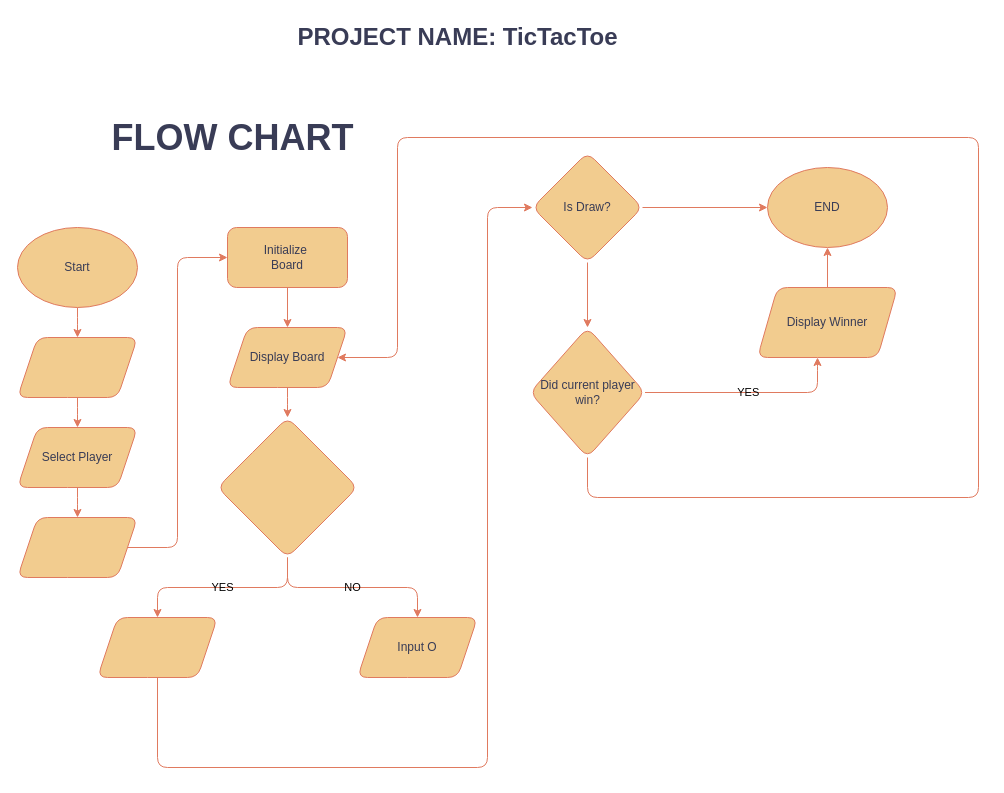
This 1004x793 diagram has some shape labels left out. Each missing label, with the box of its shape:
"Welcome to TicTacToe!": (16, 336, 138, 398)
Input board Dimension: (16, 516, 138, 578)
Input X: (96, 616, 218, 678)
is Current player X?: (216, 416, 358, 558)
